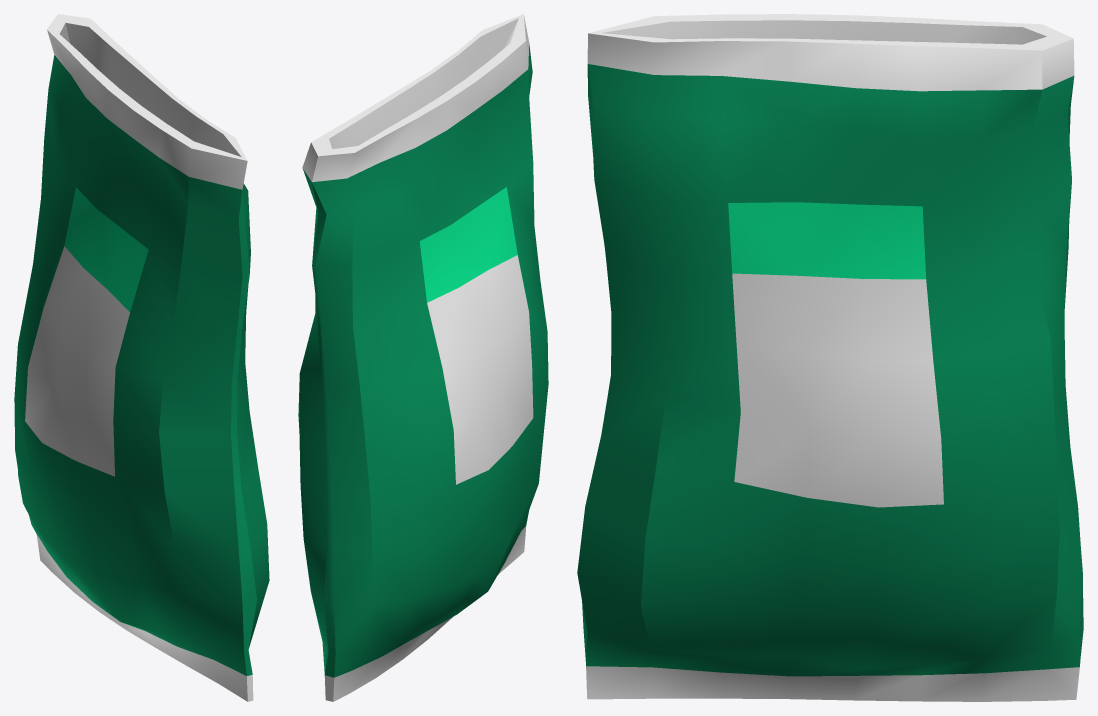
The model's file is Packet_01.glb.
The picture shows the model from 3 angles, left to right: view 1: azimuth 30°, elevation 25°; view 2: azimuth 150°, elevation 25°; view 3: azimuth 270°, elevation 25°; orthographic projection. The views are drawn at different scales.
Parts seen in each view (by area): view 1: Mesh_Packet_01; view 2: Mesh_Packet_01; view 3: Mesh_Packet_01.
Boxes of the visible parts, bbox=[...] form: Mesh_Packet_01: bbox=[14, 14, 269, 701]; Mesh_Packet_01: bbox=[298, 14, 548, 701]; Mesh_Packet_01: bbox=[577, 14, 1083, 701].
Size of the model in its own units: 0.0644 by 0.2145 by 0.1469.
1 material, 1 textured.
